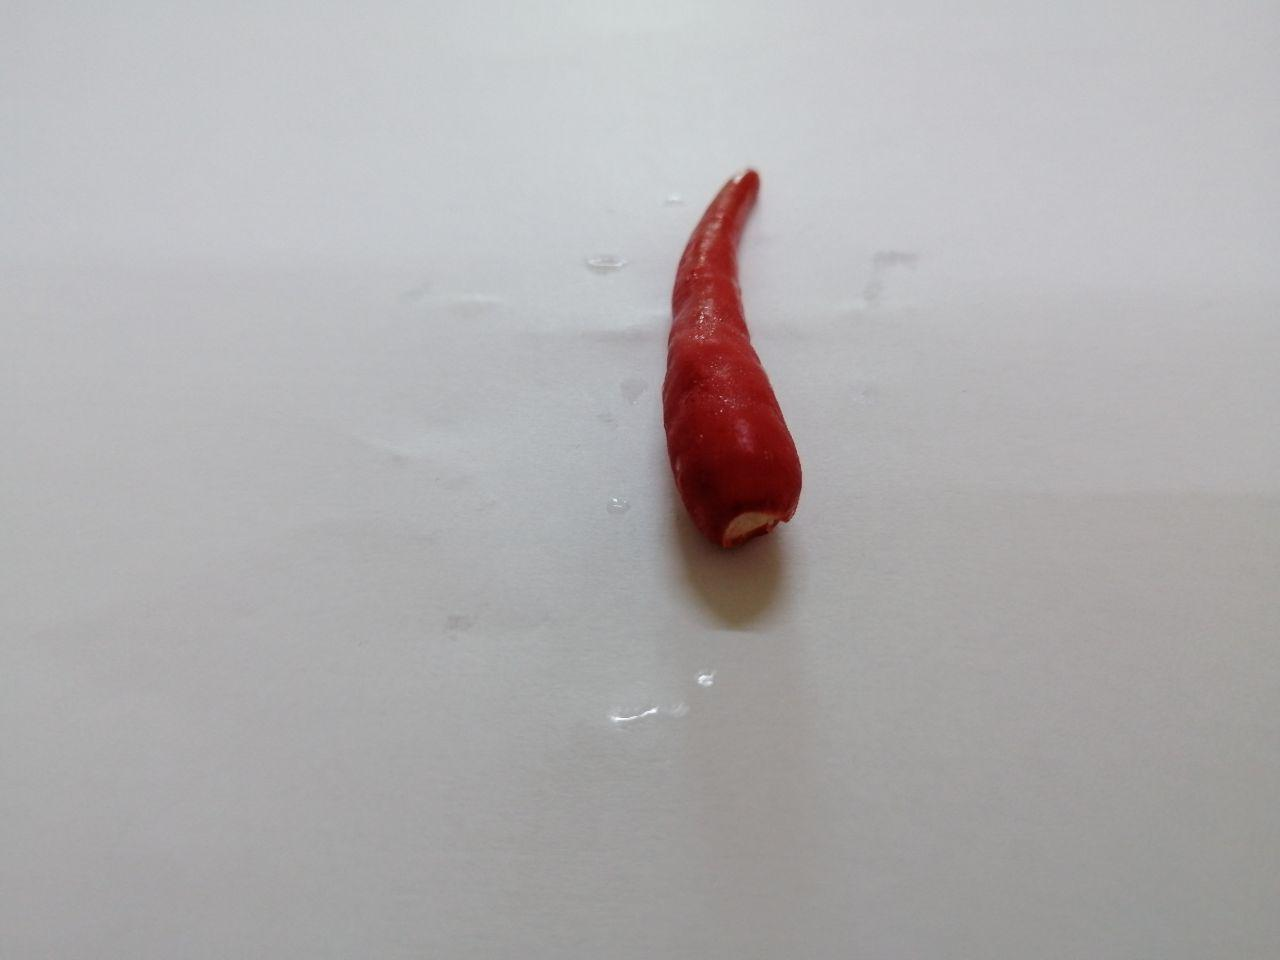lada merah: (627, 139, 837, 561)
